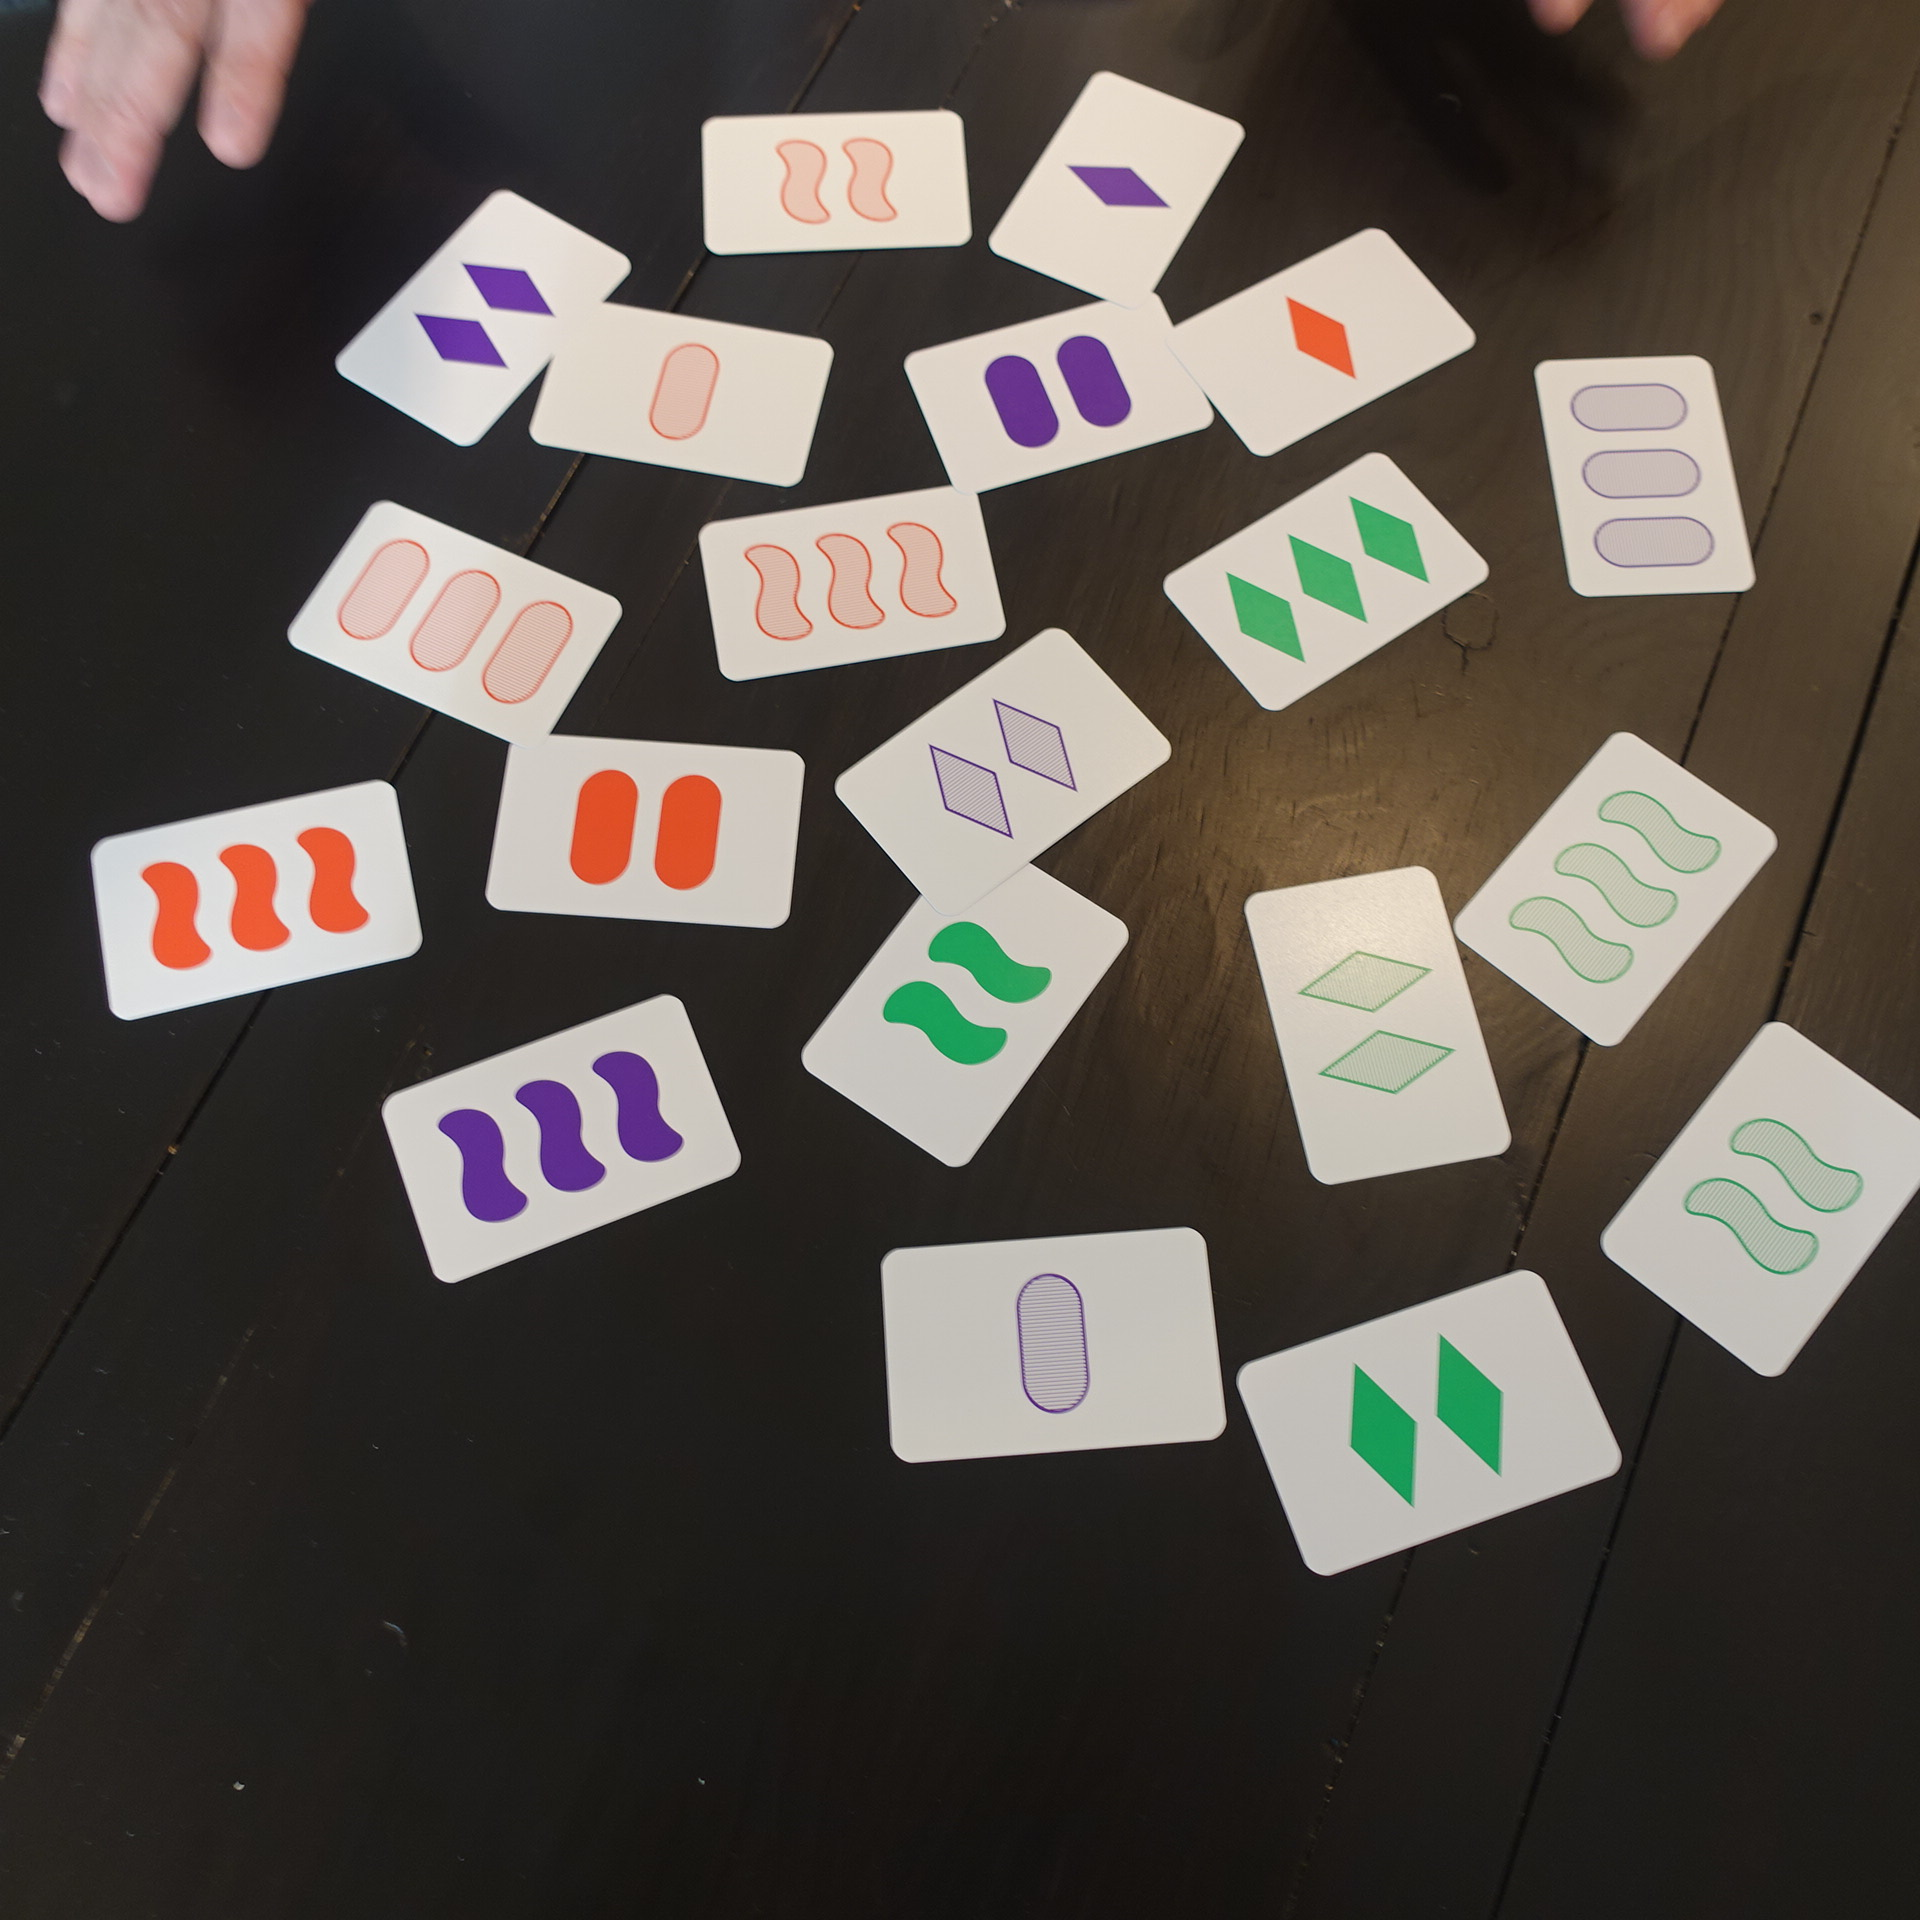c-1-f-d-r: (1159, 211, 1509, 469), (972, 65, 1264, 316)
c-1-h-o-r: (863, 1220, 1238, 1468), (505, 292, 842, 503)
c-2-f-d-r: (1211, 1264, 1628, 1589), (316, 181, 645, 457)
c-2-f-o-r: (884, 287, 1248, 501)
c-2-f-s-r: (779, 832, 1139, 1189), (471, 721, 818, 955)
c-2-h-d-r: (828, 626, 1187, 921), (1218, 853, 1523, 1194)
c-2-h-s-r: (1591, 1007, 1920, 1393), (665, 91, 981, 260)
c-3-f-d-r: (1148, 448, 1498, 724)
c-3-f-s-r: (362, 979, 758, 1294), (74, 765, 433, 1046)
c-3-h-o-r: (260, 491, 631, 753), (1526, 336, 1786, 610), (673, 478, 1023, 682)
c-3-h-s-r: (1449, 723, 1788, 1057)
